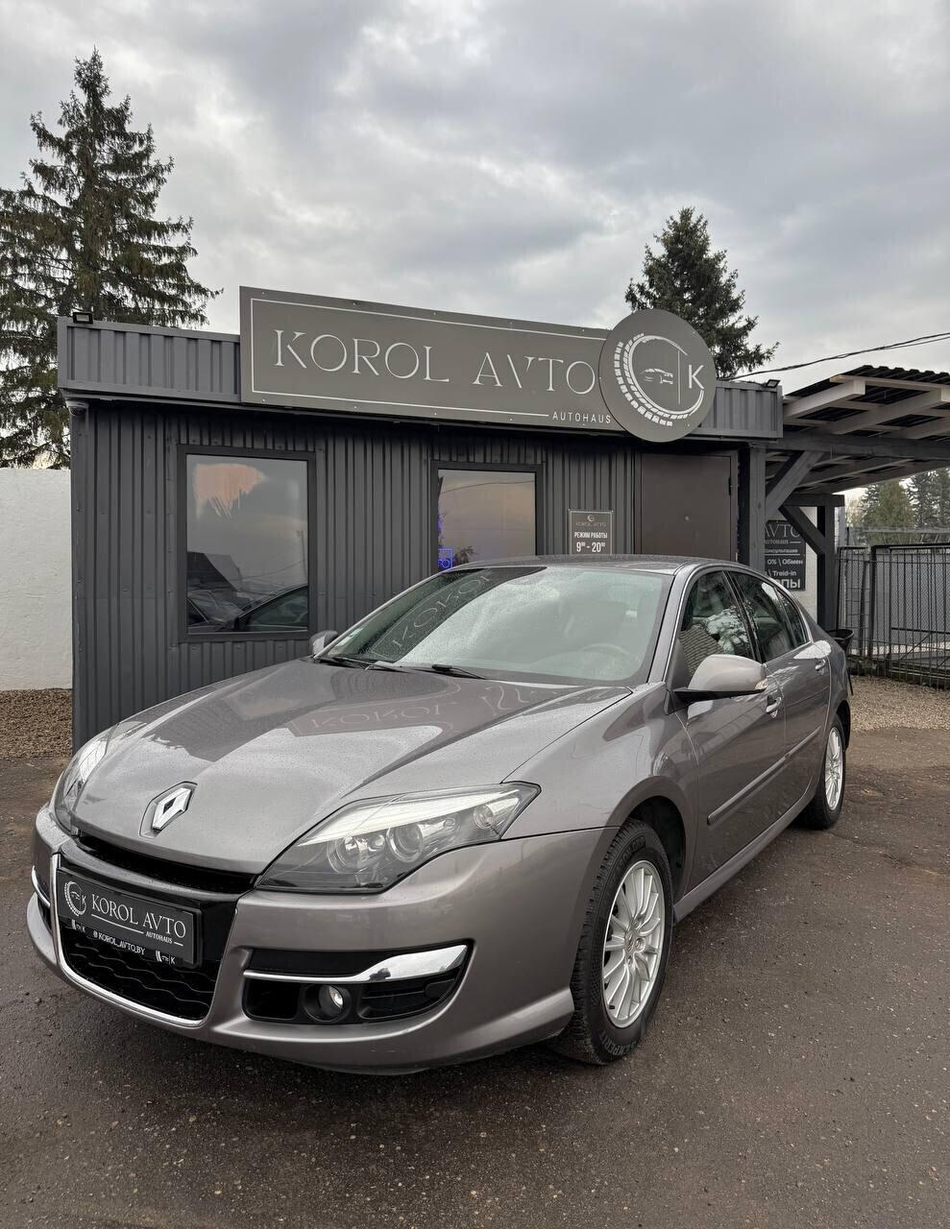Laguna_2010-2015: (19, 538, 874, 1085)
